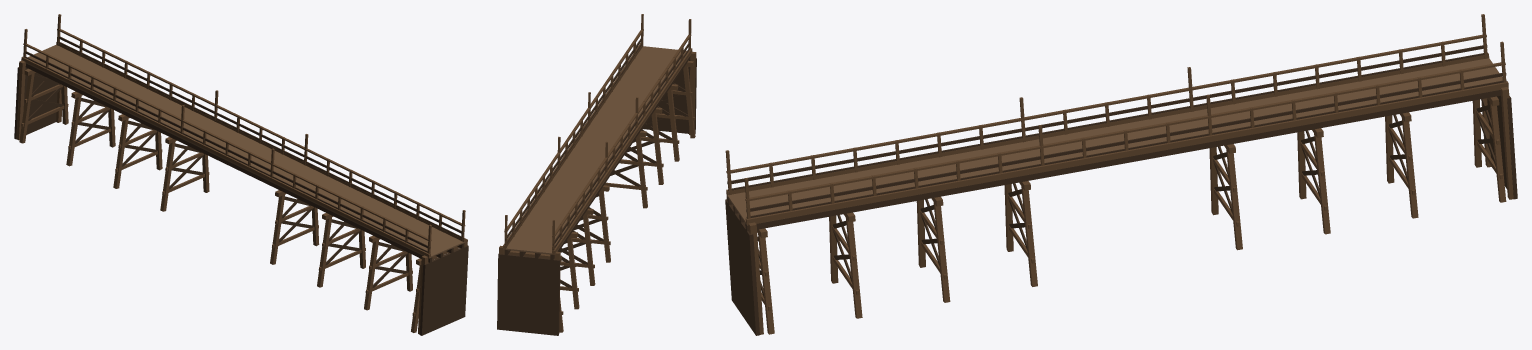
Rendered from SM_Bridge_ForestTrail.fbx.
The picture shows the model from 3 angles, left to right: view 1: azimuth 30°, elevation 25°; view 2: azimuth 150°, elevation 25°; view 3: azimuth 270°, elevation 25°; orthographic projection. The views are drawn at different scales.
Parts seen in each view (by area): view 1: SM_Bridge_ForestTrail; view 2: SM_Bridge_ForestTrail; view 3: SM_Bridge_ForestTrail.
Boxes of the visible parts, <box> form: SM_Bridge_ForestTrail: <box>14,14,468,335</box>; SM_Bridge_ForestTrail: <box>497,14,696,335</box>; SM_Bridge_ForestTrail: <box>725,14,1517,335</box>.
Size of the model in its own units: 13.6 by 9.73 by 35.23.
